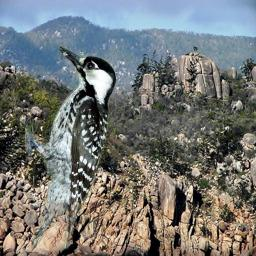Woodpecker: (25, 44, 116, 251)
